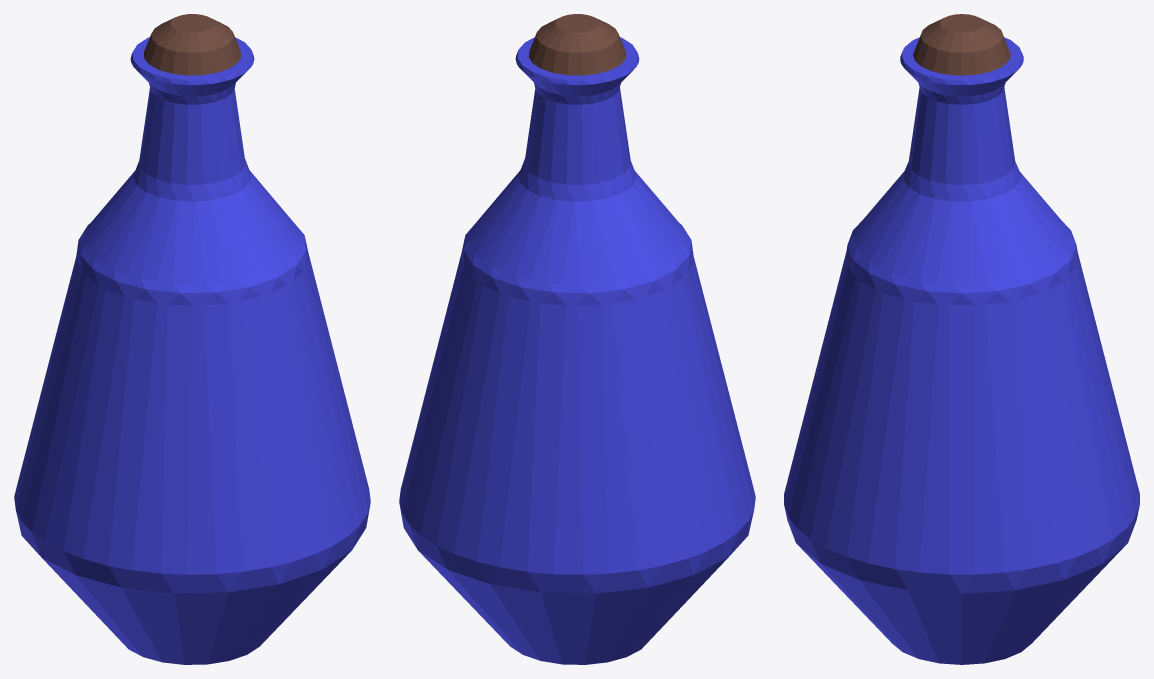
File: Potion1.fbx
3 renders of one model, left to right at view 1: azimuth 30°, elevation 25°; view 2: azimuth 150°, elevation 25°; view 3: azimuth 270°, elevation 25°, orthographic.
Visible parts, largest first — view 1: Cylinder; view 2: Cylinder; view 3: Cylinder.
Boxes of the visible parts, <box> form: Cylinder: <box>14,14,370,664</box>; Cylinder: <box>399,14,755,664</box>; Cylinder: <box>784,14,1139,664</box>.
Size of the model in its own units: 166 by 314 by 166.
